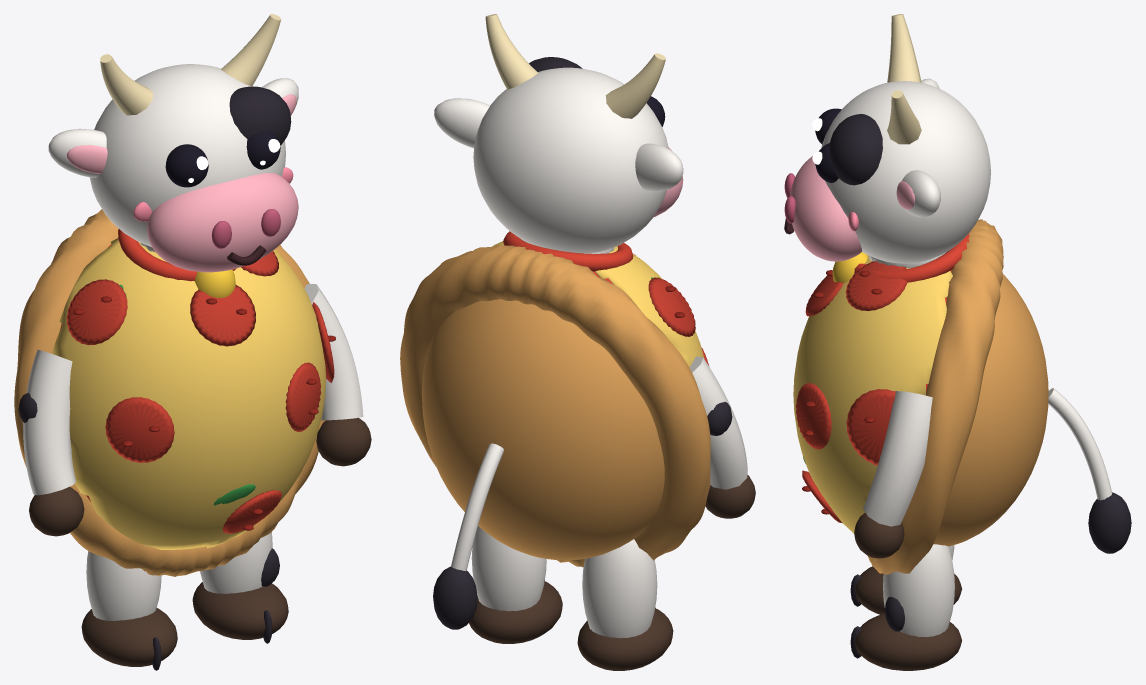
Rendered from pilot_ku2_pizza.glb.
The picture shows the model from 3 angles, left to right: view 1: azimuth 30°, elevation 25°; view 2: azimuth 150°, elevation 25°; view 3: azimuth 270°, elevation 25°; orthographic projection. The views are drawn at different scales.
Parts seen in each view (by area): view 1: kropp, hode, vinge_v, bein_vf, bein_hf, vinge_h; view 2: kropp, hode, bein_vf, bein_hf, vinge_v, hale; view 3: kropp, hode, bein_hf, vinge_h, hale, bein_vf.
Boxes of the visible parts, x1,y1,x2,y2 form: kropp: (14,209,335,576); hode: (48,14,298,298); vinge_v: (18,349,84,536); bein_vf: (81,551,177,670); bein_hf: (192,532,288,643); vinge_h: (304,284,371,466); kropp: (400,241,710,567); hode: (434,14,683,271); bein_vf: (577,539,673,670); bein_hf: (469,526,562,643); vinge_v: (689,356,755,518); hale: (433,443,503,629); kropp: (793,219,1048,574); hode: (784,14,990,282); bein_hf: (850,544,961,670); vinge_h: (854,391,932,558); hale: (1048,388,1131,553); bein_vf: (850,545,961,614).
Bounding box in the file's own units: 1.03 × 1.8 × 0.9635.
